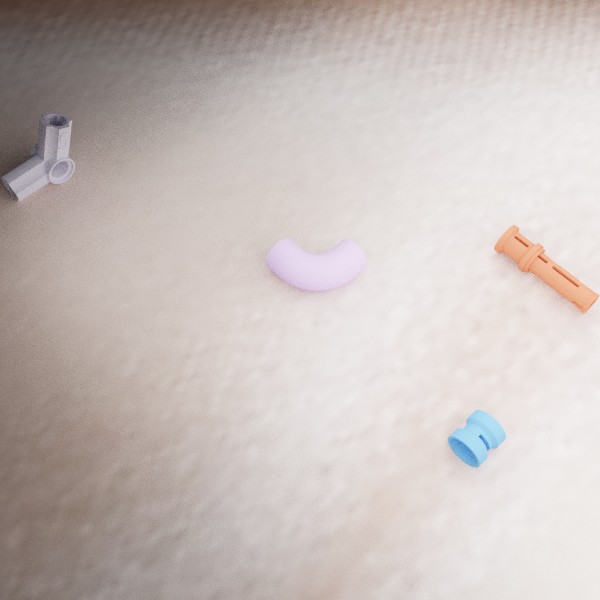lego: (494, 224, 600, 313), (0, 110, 75, 201), (265, 237, 367, 290), (447, 409, 506, 467)
